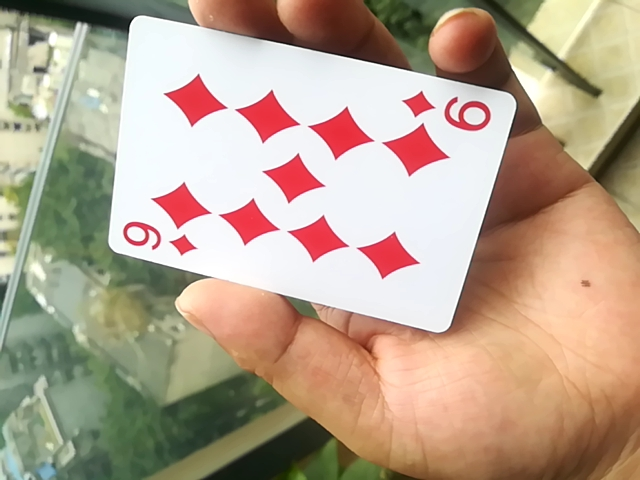fk 9: (107, 7, 516, 334)
